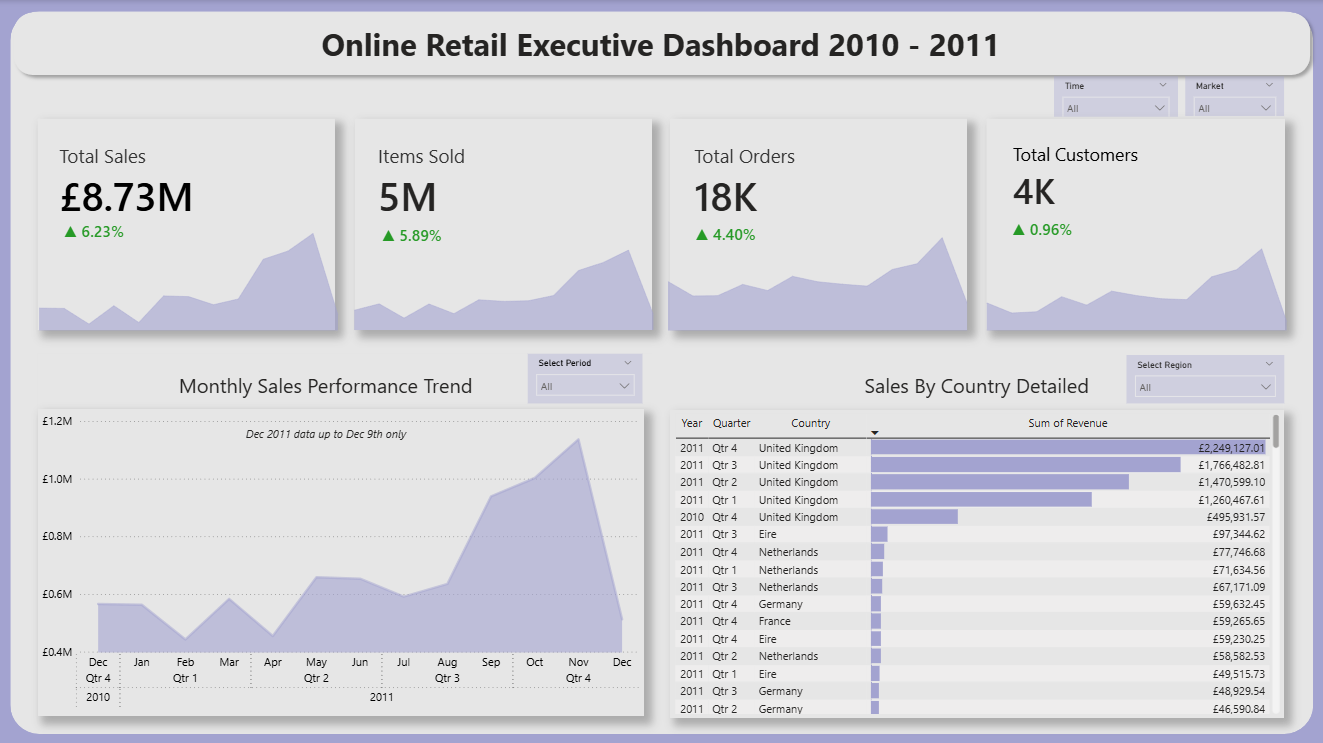

The page's visual inventory and layout, read from the dashboard file:
{"tool":"powerbi","page":{"name":"Online Retail Visualization","canvas":[1600,900],"ordinal":0},"visuals":[{"type":"shape","box":[14,14,1572,872],"z":0},{"type":"shape","box":[46.7,142,358,254],"z":1000,"group":"g1"},{"type":"shape","box":[428.7,142,358,254],"z":2000,"group":"g1"},{"type":"shape","box":[46.2,427.5,741.2,446.2],"z":2000},{"type":"cardVisual","fields":{"Data":["Sum(online_retail_final.Revenue)"]},"box":[43.3,142.1,270,138.9],"z":4000,"group":"g1"},{"type":"shape","box":[808.7,142,358,254],"z":5000,"group":"g1"},{"type":"shape","box":[808.3,428.3,741.7,446.7],"z":5000},{"type":"shape","box":[1190.7,142,360,254],"z":8000,"group":"g1"},{"type":"shape","box":[8.3,6.7,1581.7,93.3],"z":9000},{"type":"textbox","box":[358,22,882,64],"z":10000},{"type":"cardVisual","fields":{"Data":["Sum(online_retail_final.Quantity)"]},"box":[428.3,142,358.2,253.6],"z":10000,"group":"g1"},{"type":"lineChart","fields":{"Y":["Sum(online_retail_final.Quantity)"],"Category":["Calendar.Year","Calendar.Quarter","Calendar.Month Short"]},"box":[411.6,258.6,395,144],"z":10500,"group":"g1"},{"type":"cardVisual","fields":{"Data":["online_retail_final.Total Transactions"]},"box":[809.5,142,358.2,253.6],"z":11000,"group":"g1"},{"type":"slicer","fields":{"Values":["Calendar.Year","Calendar.Quarter","Calendar.Month Short"]},"box":[1273.1,92.3,149.2,48.5],"z":13000},{"type":"cardVisual","fields":{"Data":["online_retail_final.Revenue Growth Indicator"]},"box":[39.3,236,151.7,80],"z":13000,"group":"g1"},{"type":"cardVisual","fields":{"Data":["online_retail_final.Total Customers"]},"box":[1193.8,141,368.8,258.8],"z":13500,"group":"g1"},{"type":"slicer","fields":{"Values":["online_retail_final.Country"]},"box":[1430.8,92.3,119.2,47.7],"z":14000},{"type":"cardVisual","fields":{"Data":["online_retail_final.Quantity Growth Indicator"]},"box":[422.1,253.2,152.2,57.8],"z":14000,"group":"g1"},{"type":"group","id":"g1","title":"Group 1","box":[31.1,141,1538.7,262.5],"z":14187},{"type":"cardVisual","fields":{"Data":["online_retail_final.Orders Growth Indicator"]},"box":[803.2,253.2,146.7,55.6],"z":15000,"group":"g1"},{"type":"cardVisual","fields":{"Data":["online_retail_final.Customers Growth Indicator"]},"box":[1179.9,247.6,156.7,52.2],"z":16000,"group":"g1"},{"type":"lineChart","fields":{"Y":["online_retail_final.Total Customers"],"Category":["Calendar.Year","Calendar.Quarter","Calendar.Month Short"]},"box":[1173.8,256.6,396,146],"z":16251,"group":"g1"},{"type":"lineChart","fields":{"Y":["Sum(online_retail_final.Revenue)"],"Category":["Calendar.Year","Calendar.Quarter","Calendar.Month Short"]},"box":[31.1,256.5,394.4,146],"z":17001,"group":"g1"},{"type":"lineChart","fields":{"Y":["online_retail_final.Total Transactions"],"Category":["Calendar.Year","Calendar.Quarter","Calendar.Month Short"]},"box":[789.9,256.5,395,147],"z":17500,"group":"g1"},{"type":"lineChart","fields":{"Y":["Sum(online_retail_final.Revenue)"],"Category":["Calendar.Year","Calendar.Quarter","Calendar.Month Short"]},"box":[46.2,493.8,731.2,371.2],"z":20000},{"type":"textbox","box":[198.6,442.9,390,51.4],"z":20500},{"type":"tableEx","fields":{"Values":["Calendar.Date.Variation.Date Hierarchy.Year","Calendar.Quarter","online_retail_final.Country","Sum(online_retail_final.Revenue)"]},"box":[810,494.3,740,371.4],"z":21000},{"type":"textbox","box":[1034.3,442.9,290,51.4],"z":21500},{"type":"textbox","box":[274.3,510,240,30],"z":22000},{"type":"slicer","fields":{"Values":["Calendar.Year","Calendar.Quarter","Calendar.Month Short"]},"box":[638.6,427.1,138.6,60],"z":22500},{"type":"slicer","fields":{"Values":["Calendar.Date.Variation.Date Hierarchy.Year","Calendar.Date.Variation.Date Hierarchy.Quarter","online_retail_final.Country"]},"box":[1360,428.8,190,58.8],"z":23000}]}

Visuals, with their boxes in screenshot pixels (x1, y1, x2, y2), scaled from the page's 1600x900 canvas onto the 1323x743 screenshot:
shape: [x1=12, y1=12, x2=1311, y2=731]
shape: [x1=39, y1=117, x2=335, y2=327]
shape: [x1=354, y1=117, x2=651, y2=327]
shape: [x1=38, y1=353, x2=651, y2=721]
cardVisual - Sum(online_retail_final.Revenue): [x1=36, y1=117, x2=259, y2=232]
shape: [x1=669, y1=117, x2=965, y2=327]
shape: [x1=668, y1=354, x2=1282, y2=722]
shape: [x1=985, y1=117, x2=1282, y2=327]
shape: [x1=7, y1=6, x2=1315, y2=83]
textbox: [x1=296, y1=18, x2=1025, y2=71]
cardVisual - Sum(online_retail_final.Quantity): [x1=354, y1=117, x2=650, y2=327]
lineChart - Sum(online_retail_final.Quantity) x Calendar.Year: [x1=340, y1=213, x2=667, y2=332]
cardVisual - online_retail_final.Total Transactions: [x1=669, y1=117, x2=966, y2=327]
slicer - Calendar.Year x Calendar.Quarter: [x1=1053, y1=76, x2=1176, y2=116]
cardVisual - online_retail_final.Revenue Growth Indicator: [x1=32, y1=195, x2=158, y2=261]
cardVisual - online_retail_final.Total Customers: [x1=987, y1=116, x2=1292, y2=330]
slicer - online_retail_final.Country: [x1=1183, y1=76, x2=1282, y2=116]
cardVisual - online_retail_final.Quantity Growth Indicator: [x1=349, y1=209, x2=475, y2=257]
"Group 1" group: [x1=26, y1=116, x2=1298, y2=333]
cardVisual - online_retail_final.Orders Growth Indicator: [x1=664, y1=209, x2=785, y2=255]
cardVisual - online_retail_final.Customers Growth Indicator: [x1=976, y1=204, x2=1105, y2=248]
lineChart - online_retail_final.Total Customers x Calendar.Year: [x1=971, y1=212, x2=1298, y2=332]
lineChart - Sum(online_retail_final.Revenue) x Calendar.Year: [x1=26, y1=212, x2=352, y2=332]
lineChart - online_retail_final.Total Transactions x Calendar.Year: [x1=653, y1=212, x2=980, y2=333]
lineChart - Sum(online_retail_final.Revenue) x Calendar.Year: [x1=38, y1=408, x2=643, y2=714]
textbox: [x1=164, y1=366, x2=487, y2=408]
tableEx - Calendar.Date.Variation.Date Hierarchy.Year x Calendar.Quarter: [x1=670, y1=408, x2=1282, y2=715]
textbox: [x1=855, y1=366, x2=1095, y2=408]
textbox: [x1=227, y1=421, x2=425, y2=446]
slicer - Calendar.Year x Calendar.Quarter: [x1=528, y1=353, x2=643, y2=402]
slicer - Calendar.Date.Variation.Date Hierarchy.Year x Calendar.Date.Variation.Date Hierarchy.Quarter: [x1=1125, y1=354, x2=1282, y2=403]
